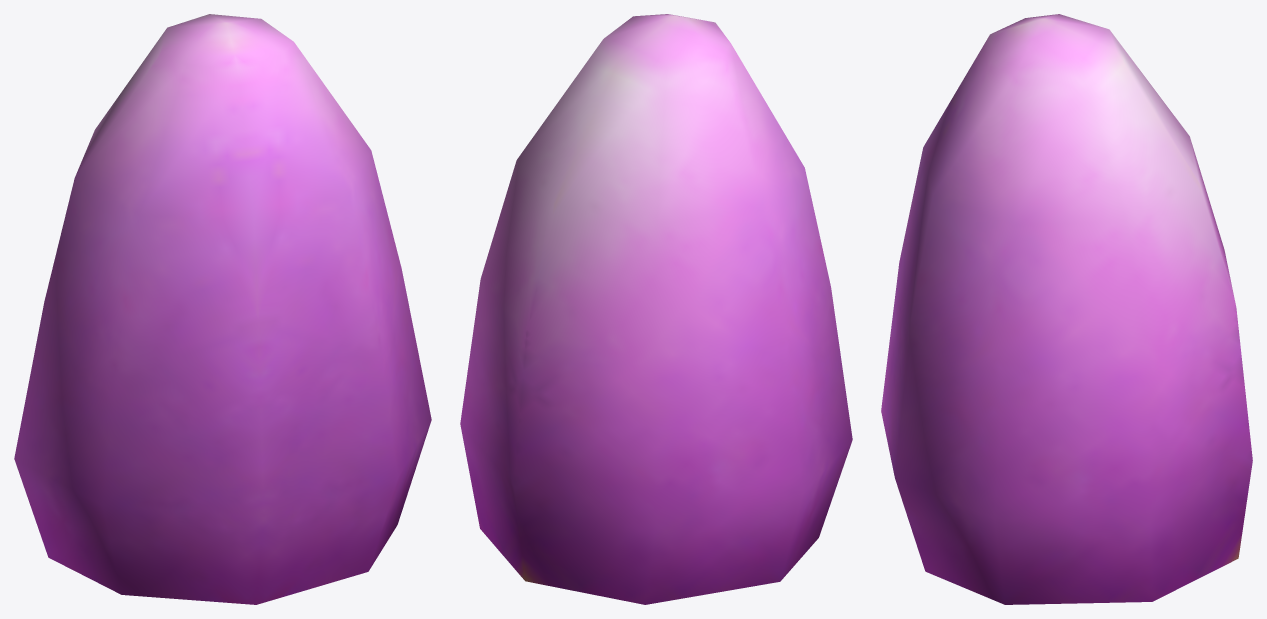
File: gonghui_mogu_05 (2).fbx
The picture shows the model from 3 angles, left to right: view 1: azimuth 30°, elevation 25°; view 2: azimuth 150°, elevation 25°; view 3: azimuth 270°, elevation 25°; orthographic projection. The views are drawn at different scales.
Parts seen in each view (by area): view 1: gonghui_mogu_05 (2); view 2: gonghui_mogu_05 (2); view 3: gonghui_mogu_05 (2).
Boxes of the visible parts, bbox=[...] form: gonghui_mogu_05 (2): bbox=[14, 14, 431, 604]; gonghui_mogu_05 (2): bbox=[460, 14, 852, 604]; gonghui_mogu_05 (2): bbox=[881, 14, 1252, 604].
Size of the model in its own units: 0.2777 by 0.3942 by 0.2586.
